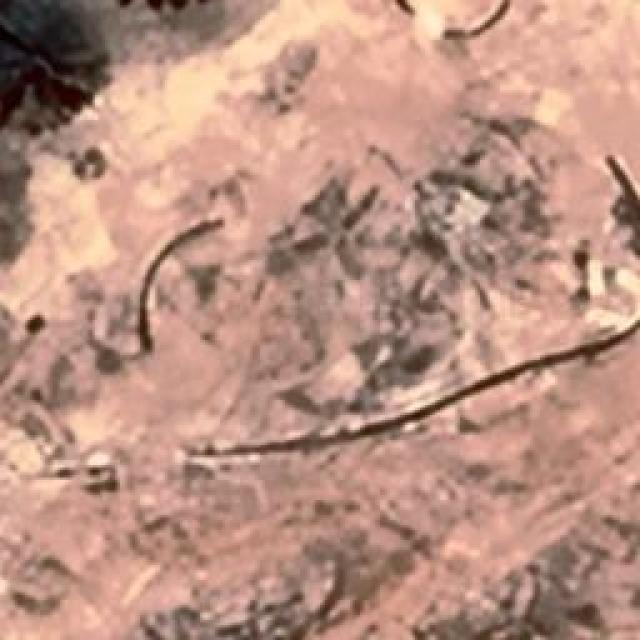PalmTree: (50, 5, 163, 130)
